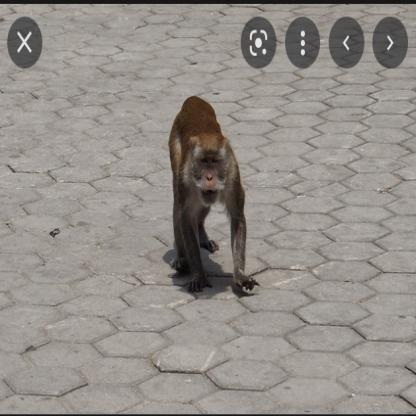monkey: (166, 91, 258, 298)
